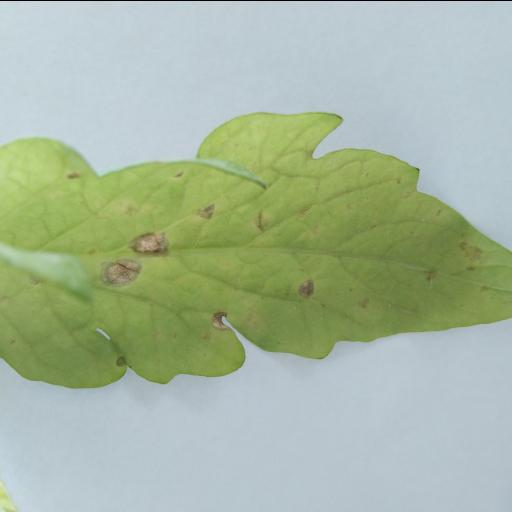disease_tomato: (0, 146, 512, 390)
